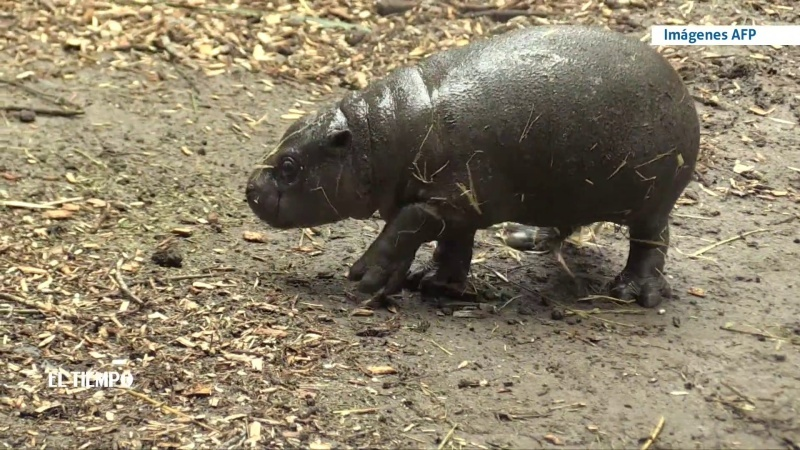hipopotamo: (229, 21, 715, 328)
